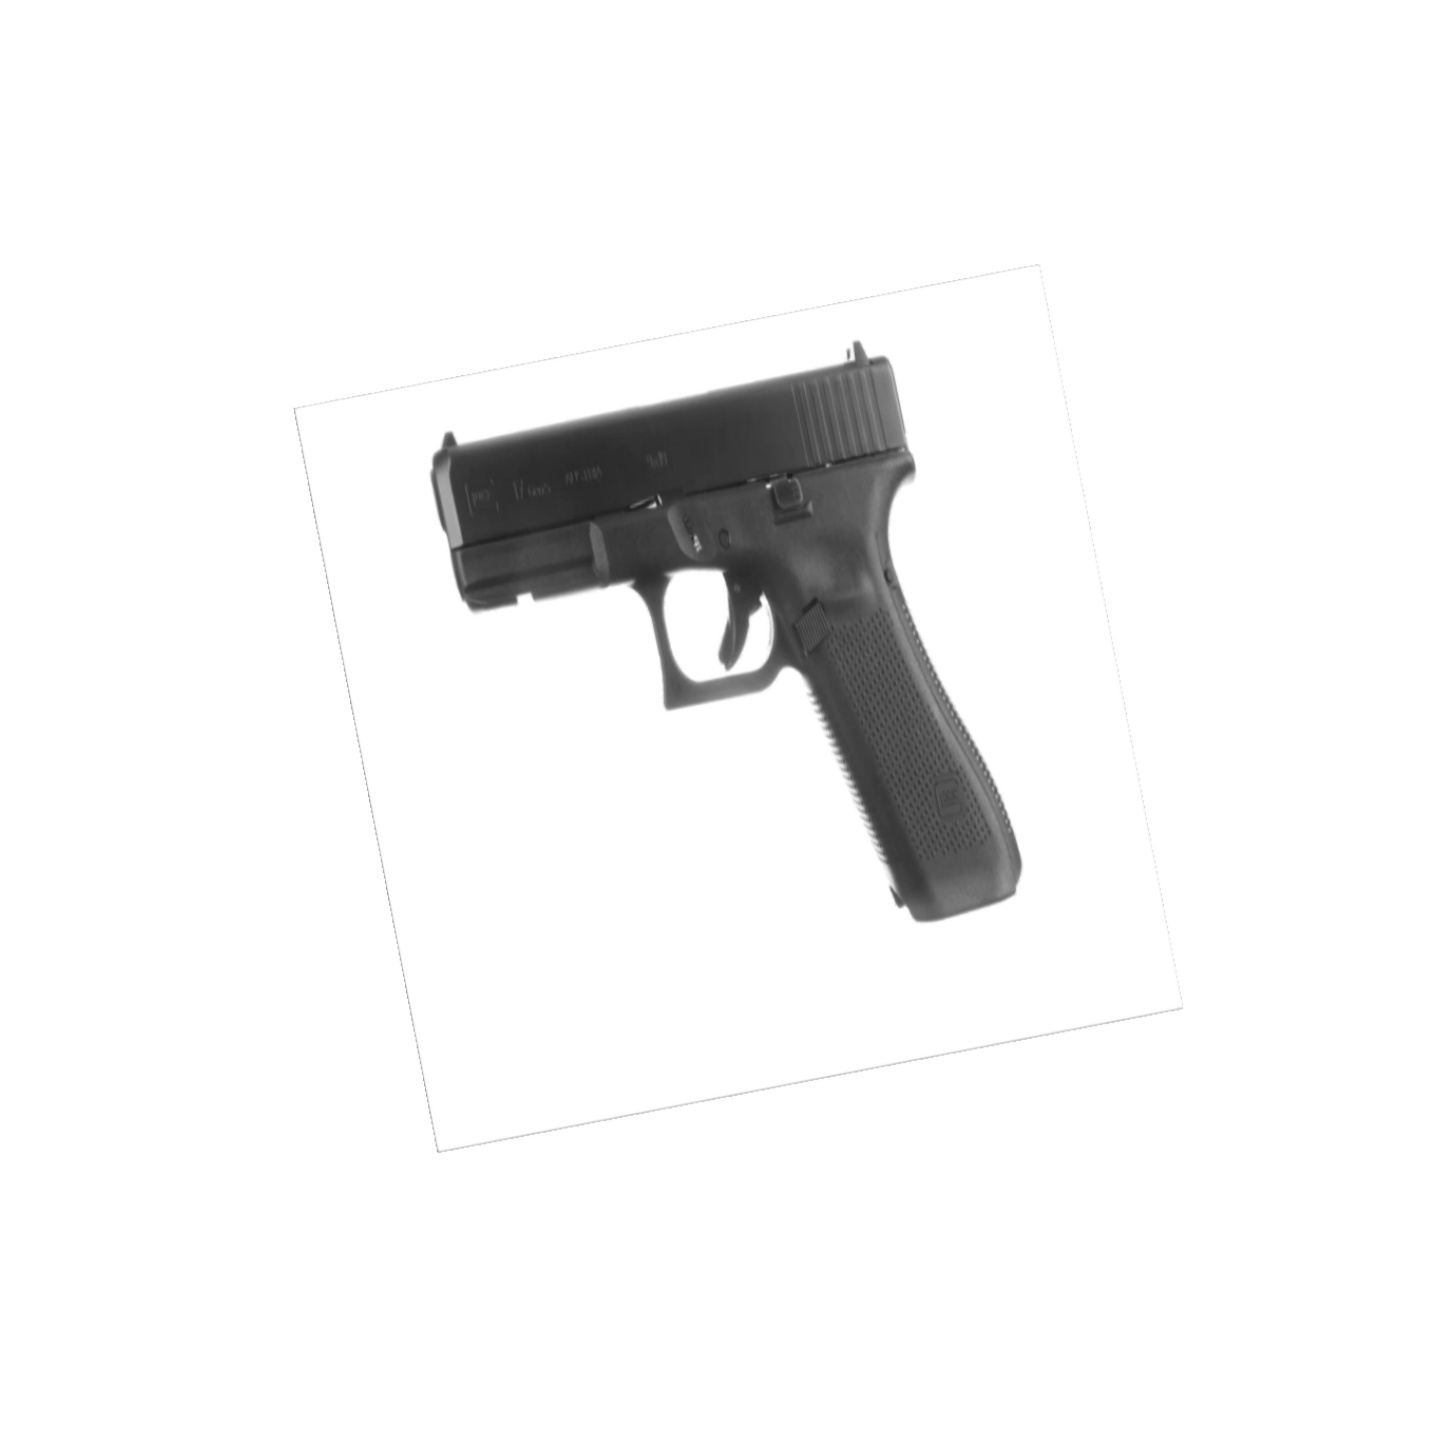gun: (431, 340, 1025, 922)
